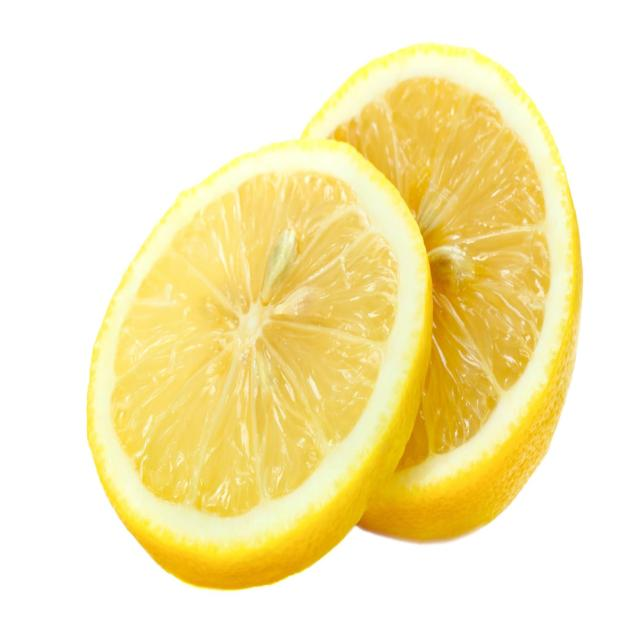lemon: (82, 125, 437, 594), (282, 31, 590, 553)
